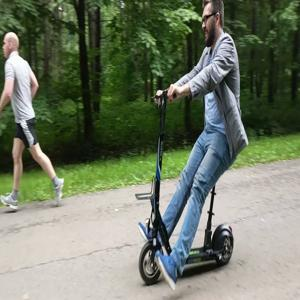human on a scooter: (134, 1, 250, 292)
